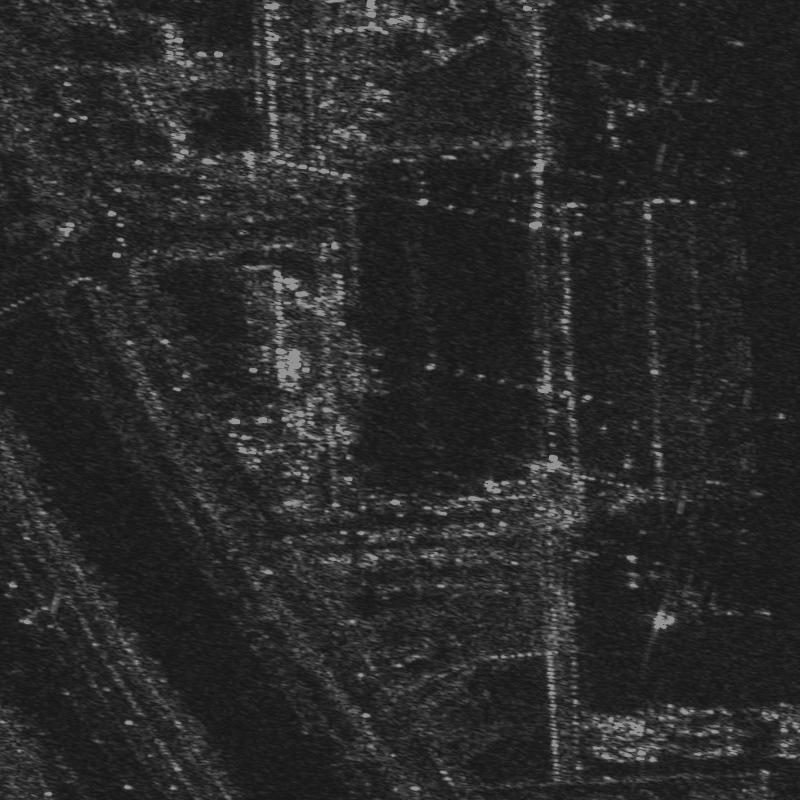A220: (628, 65, 721, 131)
